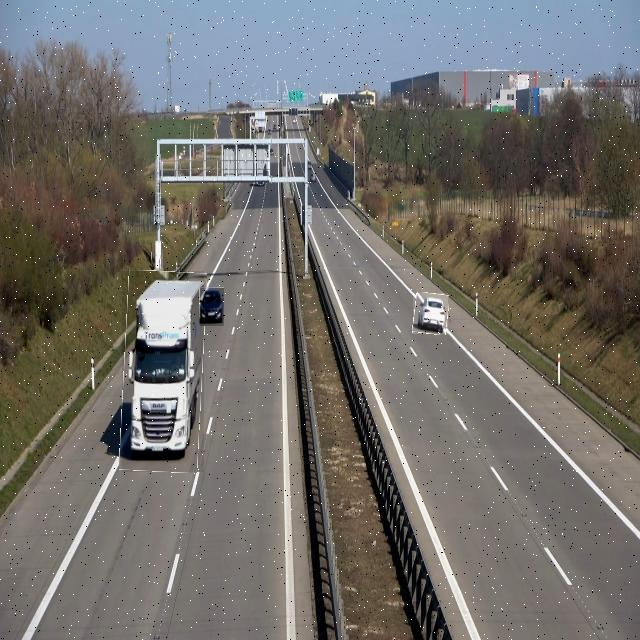Car: (413, 293, 448, 334), (199, 287, 224, 326)
Truck: (122, 271, 204, 472)
